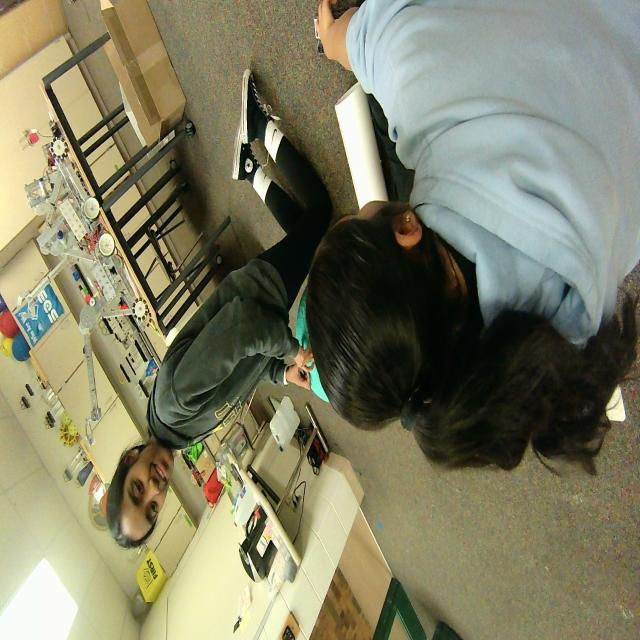coral: (334, 76, 391, 200)
